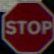Stop: (2, 5, 49, 44)
